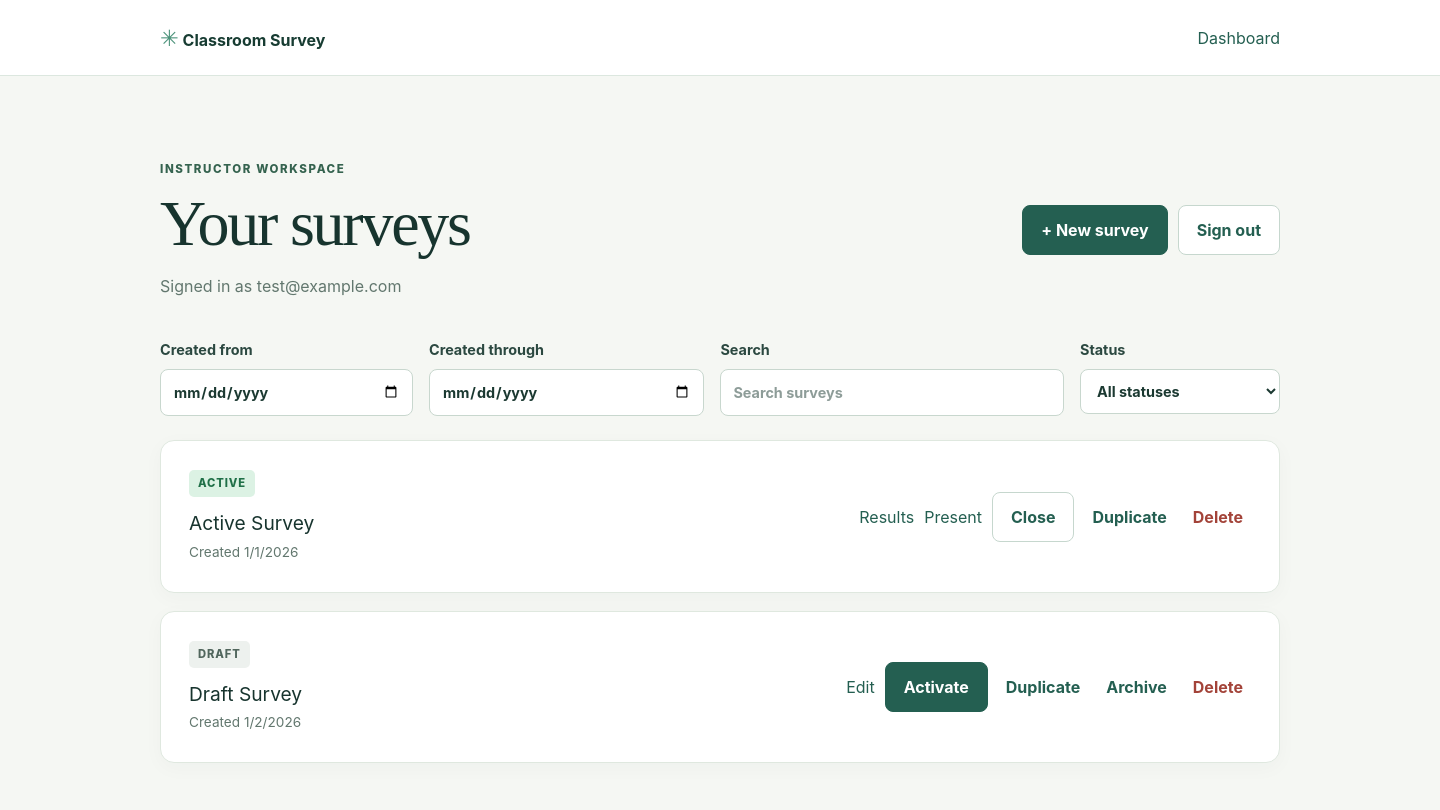
Scenario: instructor dashboard › does not report a successful close when no row was updated
The width and height of the screenshot is (1440, 810).
Click the button "Close": (1033, 517) [992,492,1074,542]
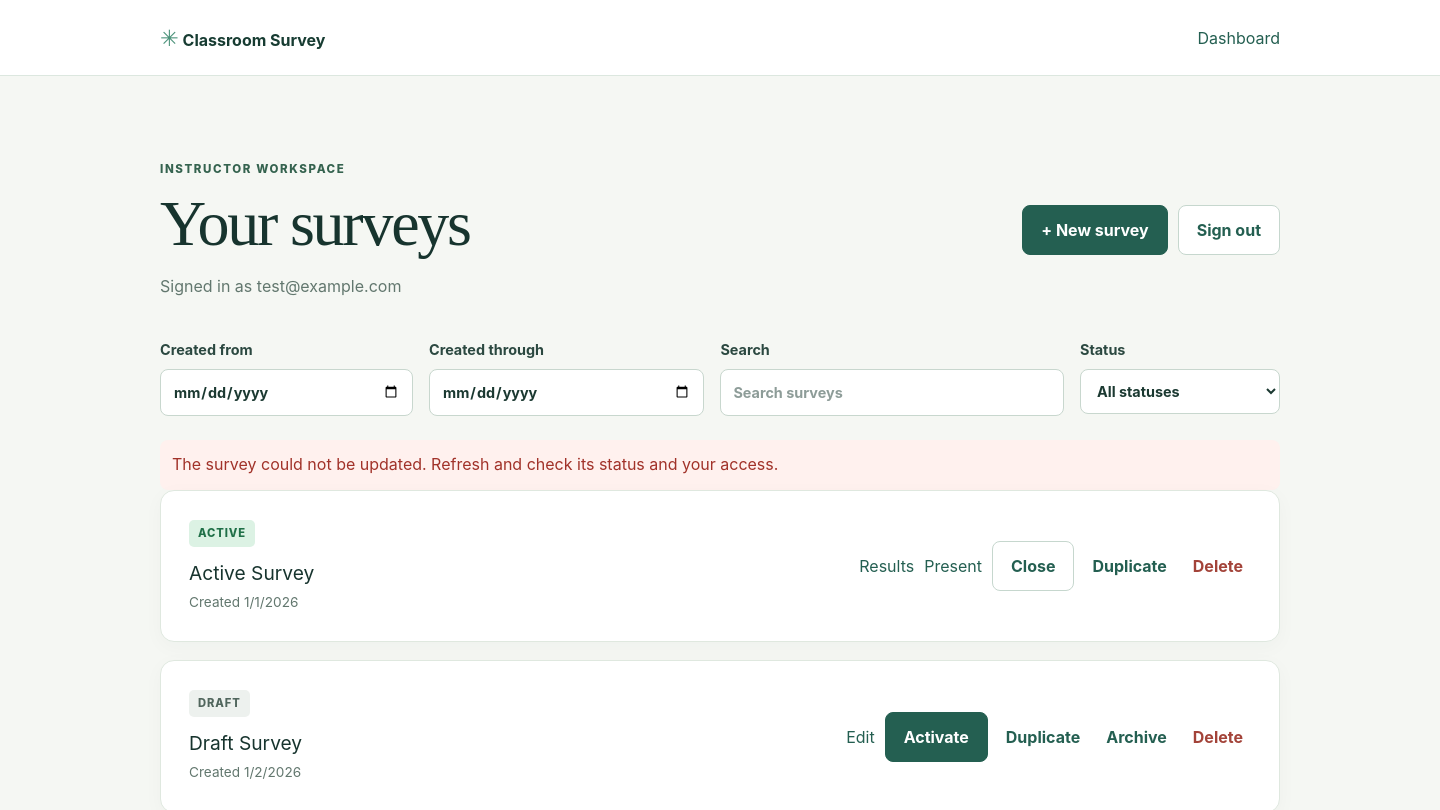
Now the message shows "could not be updated", box [172,454,778,474]
